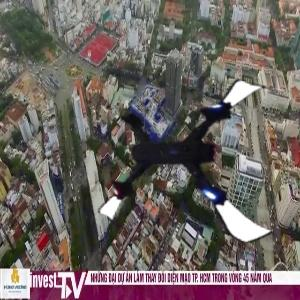drone: (105, 62, 289, 246)
